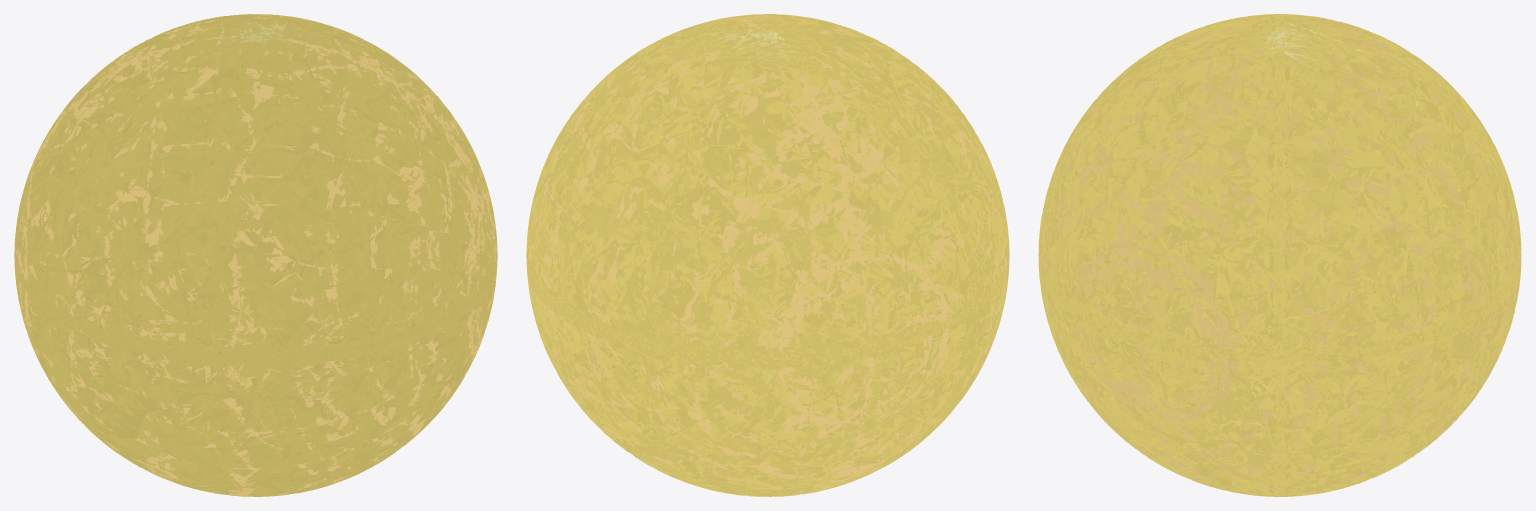
File: walk-5.glb
3 views of the same model, side by side, from view 1: azimuth 30°, elevation 25°; view 2: azimuth 150°, elevation 25°; view 3: azimuth 270°, elevation 25° (orthographic).
Visible parts, largest first — view 1: grating_support, anodes, grating; view 2: grating_support, anodes, grating; view 3: grating_support, anodes, grating.
Boxes of the visible parts, x1,y1,x2,y2 form: grating_support: [14, 14, 497, 496]; anodes: [14, 14, 497, 495]; grating: [200, 16, 331, 64]; grating_support: [526, 14, 1009, 496]; anodes: [527, 14, 1008, 496]; grating: [649, 22, 808, 480]; grating_support: [1038, 14, 1521, 496]; anodes: [1039, 14, 1520, 496]; grating: [1224, 19, 1418, 105].
Bounding box in the file's own units: 2 × 2 × 2.
